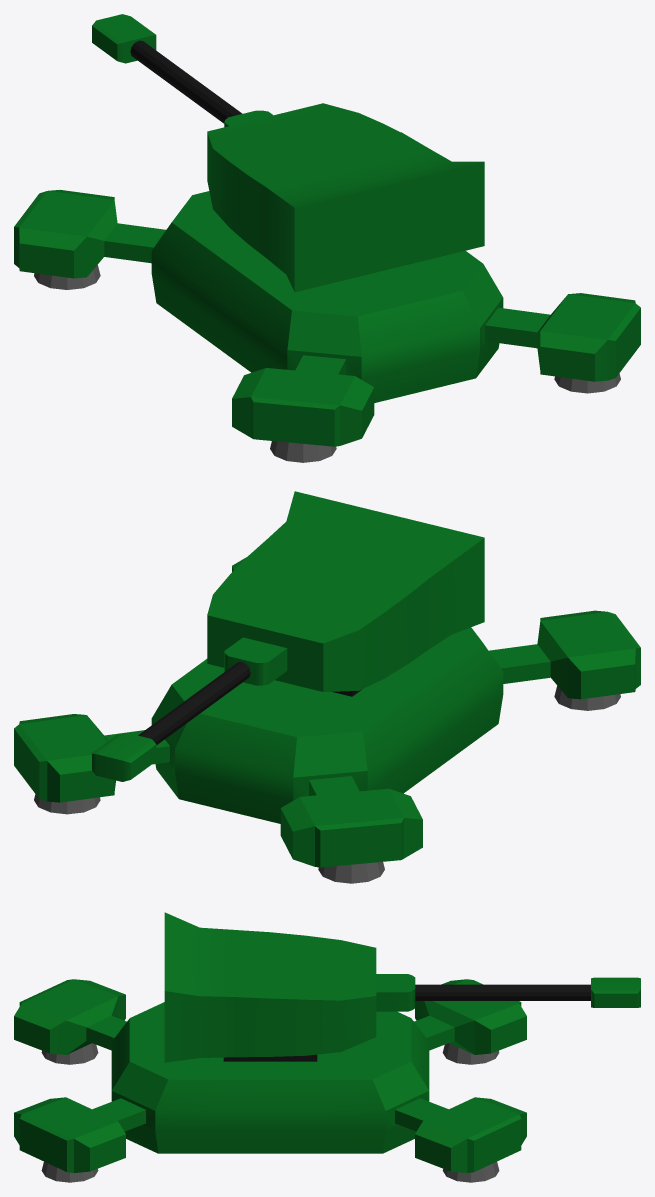
File: tank3.fbx
3 renders of one model, top to bottom at view 1: azimuth 30°, elevation 25°; view 2: azimuth 150°, elevation 25°; view 3: azimuth 270°, elevation 25°, orthographic. The views are drawn at different scales.
Visible parts, largest first — view 1: Hover_Craft_2, Turret, Barrel; view 2: Hover_Craft_2, Turret, Barrel, Gun; view 3: Hover_Craft_2, Turret, Barrel, Gun.
Boxes of the visible parts, left/top/right/bottom form: Hover_Craft_2: left=14, top=132, right=640, bottom=462; Turret: left=207, top=103, right=484, bottom=292; Barrel: left=92, top=14, right=242, bottom=123; Hover_Craft_2: left=14, top=557, right=640, bottom=883; Turret: left=207, top=491, right=484, bottom=691; Barrel: left=92, top=662, right=250, bottom=781; Gun: left=224, top=637, right=287, bottom=685; Hover_Craft_2: left=14, top=979, right=526, bottom=1182; Turret: left=164, top=912, right=376, bottom=1062; Barrel: left=415, top=977, right=640, bottom=1007; Gun: left=376, top=974, right=415, bottom=1011.
Bounding box in the file's own units: 3.74 × 1.67 × 5.93.
